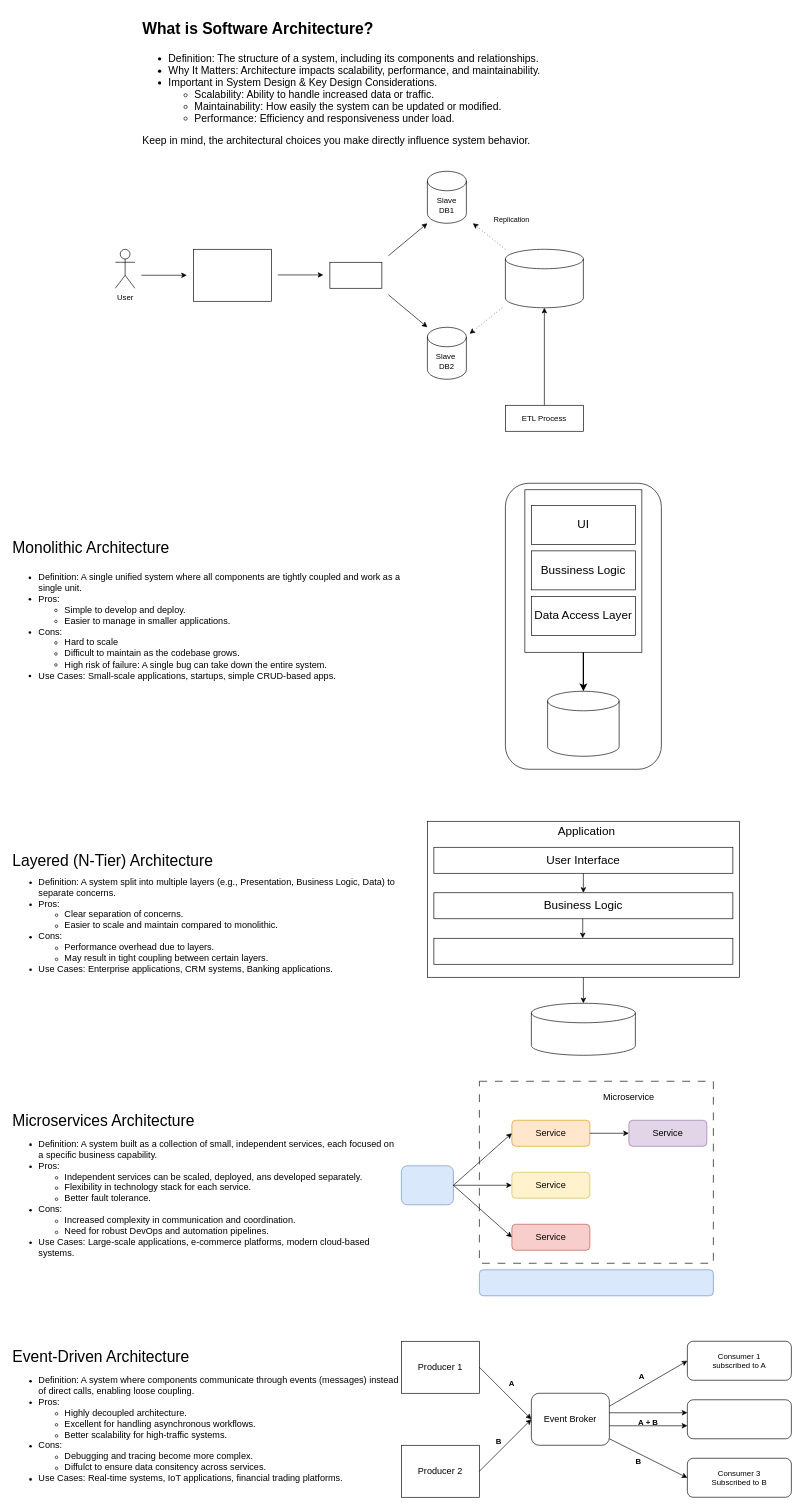
The diagram is 803 pixels wide and 1509 high, and some of its shapes have lost their labels. Here are the shapes that lost their labels. From the top down, the centre of each, then its label:
the point at 232,275: Web Application
the point at 355,275: Caching Load Balancer
the point at 544,278: Master DB
the point at 583,723: Database
the point at 583,951: Data Access
the point at 583,1029: RDBMS
the point at 427,1185: API Gateway
the point at 596,1282: Management / Orchestration
the point at 739,1419: Consumer 2 Subscribed to A + B
